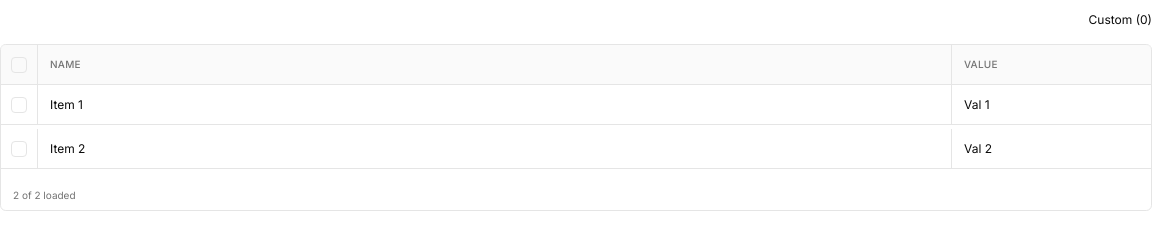
it: DataTable › renderToolBarComponents › renders toolbar component with selected IDs
Check: the button "Custom (0)" is shown, box [1089,12,1152,28]
Click the checkbox next to "Item 1" at (19, 104), box [11,96,27,112]
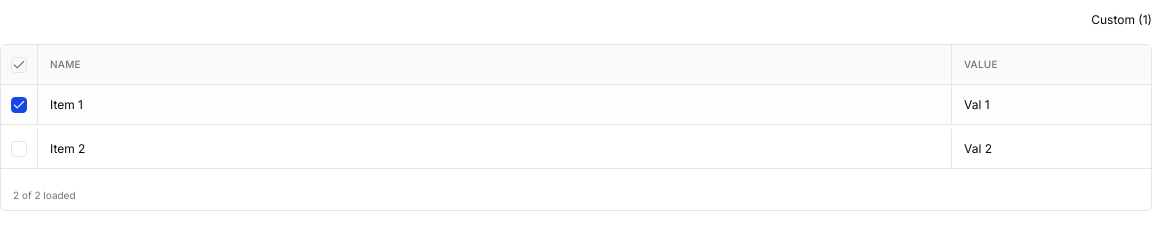
Check: the button "Custom (1)" is shown, box [1091,12,1152,28]
